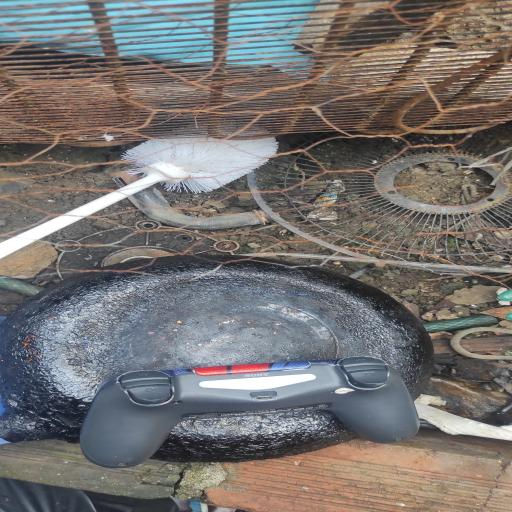ControlPlay4: (81, 355, 418, 468)
